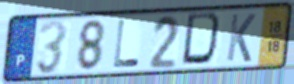2: (147, 14, 182, 70)
3: (34, 18, 72, 77)
8: (74, 18, 107, 73)
D: (180, 11, 226, 68)
K: (224, 12, 258, 64)
L: (112, 18, 142, 70)
